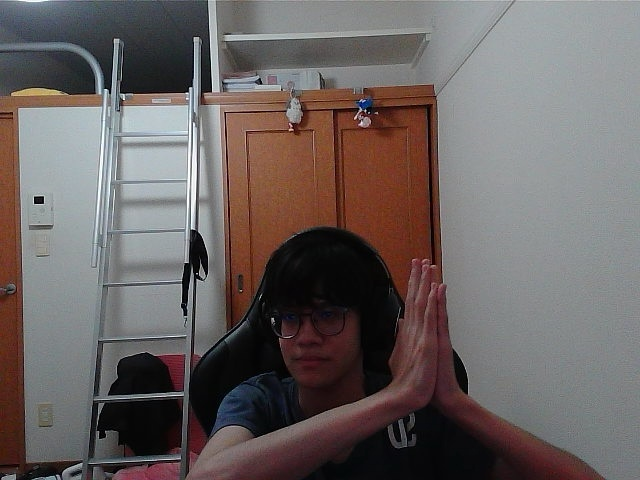pray: (397, 263, 434, 381)
